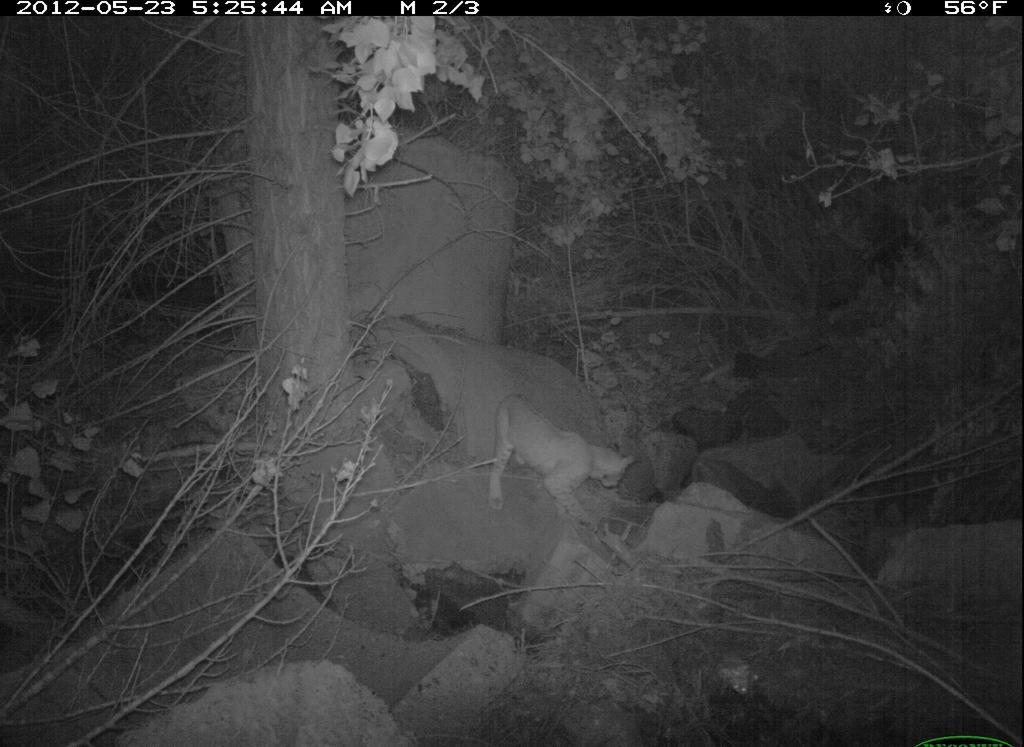bobcat: (484, 379, 634, 530)
